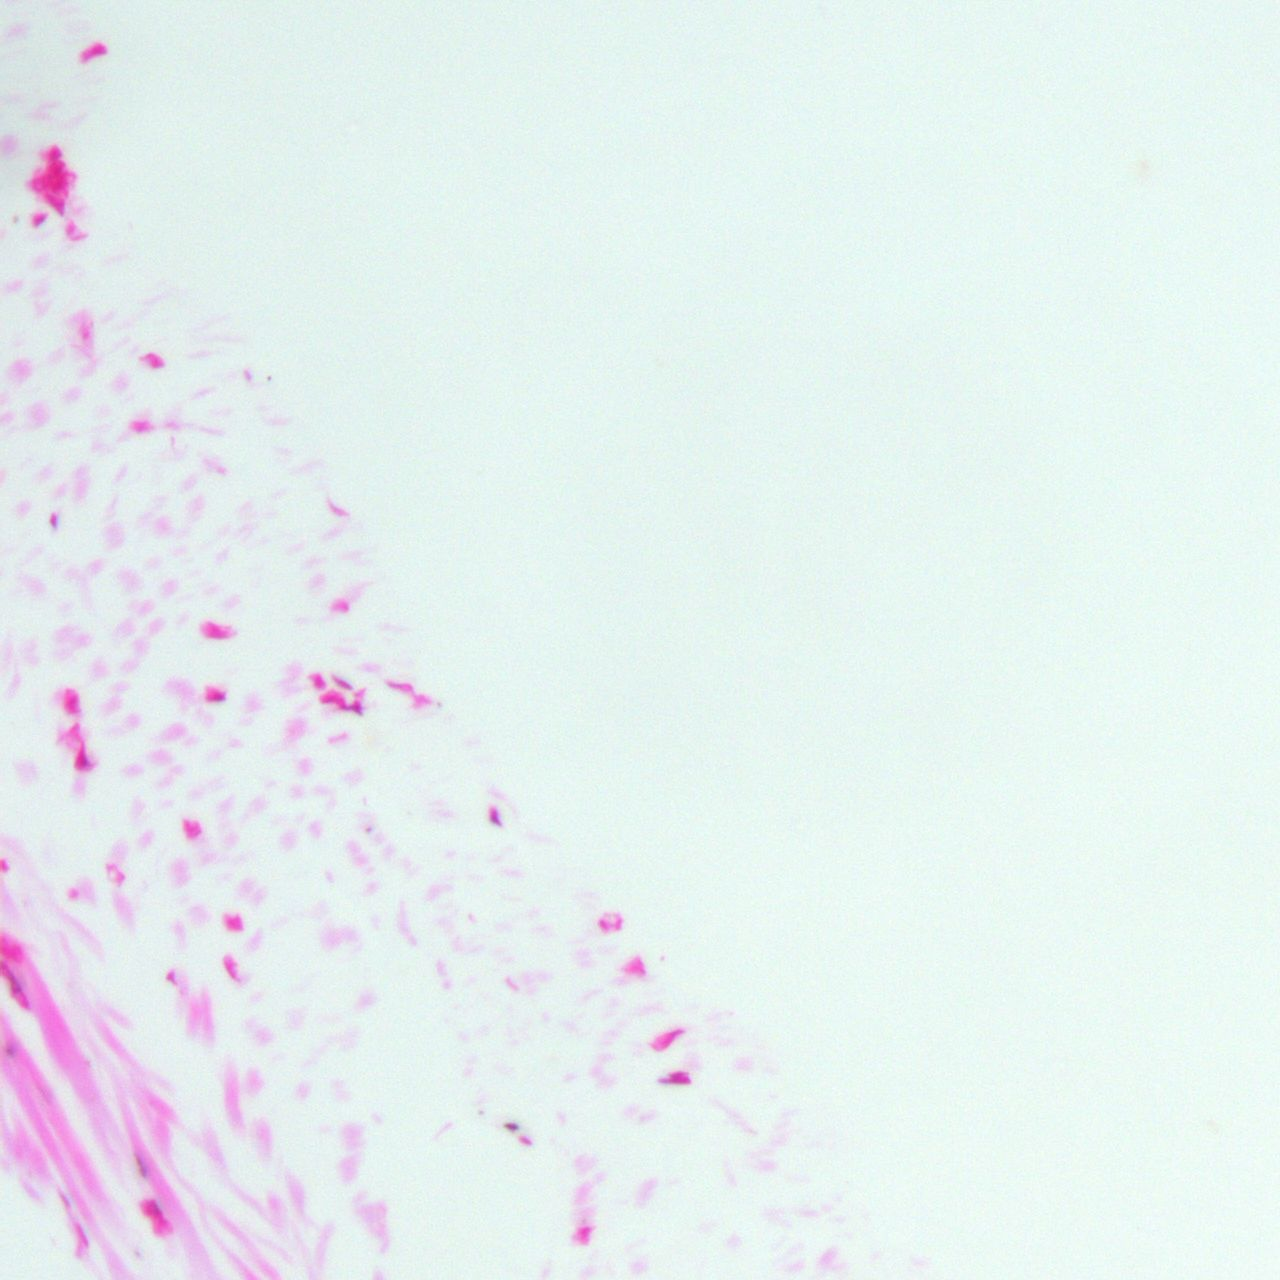dust: (503, 1122, 520, 1130), (364, 826, 372, 833), (474, 1108, 483, 1114), (267, 376, 272, 380)
nucleus-FG: (80, 44, 107, 64), (47, 192, 67, 215), (131, 1152, 148, 1177), (74, 745, 89, 771), (662, 1027, 683, 1045), (75, 1225, 91, 1248), (183, 818, 201, 837), (222, 958, 236, 982), (333, 675, 352, 691), (223, 916, 242, 930), (342, 702, 363, 714), (388, 681, 413, 691), (657, 1077, 692, 1084), (205, 692, 227, 702), (489, 809, 501, 827), (580, 1225, 591, 1244), (150, 1201, 162, 1218), (32, 213, 45, 226), (66, 697, 75, 712), (203, 632, 225, 638), (49, 512, 57, 528), (669, 1070, 688, 1075), (599, 920, 607, 929), (322, 697, 336, 702), (152, 362, 162, 367)
